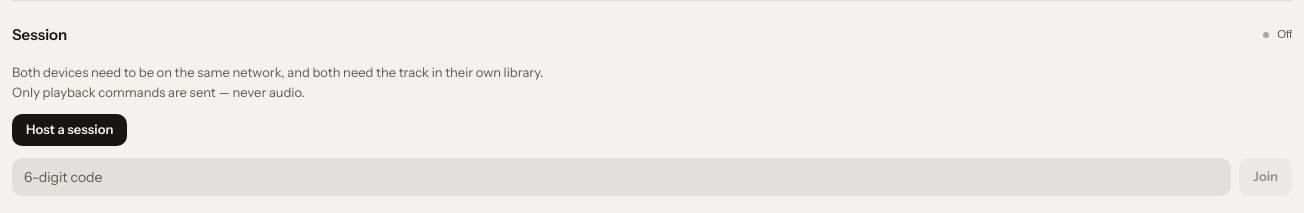
SyncPanel › joins with a six-digit code, typed as digits only
The image size is (1304, 213).
Later steps or results of the test are not shown.
Type "12a34" into the field named "Session code from the other device" at (622, 177), box [24,158,1219,196]
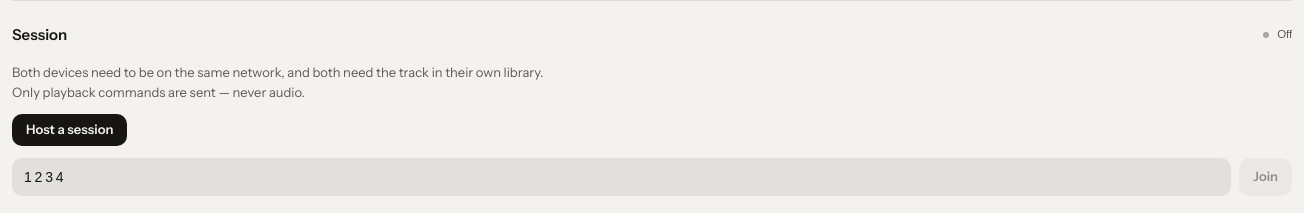
Expected: the field named "Session code from the other device" holds "1234", [24,158,1219,196]
